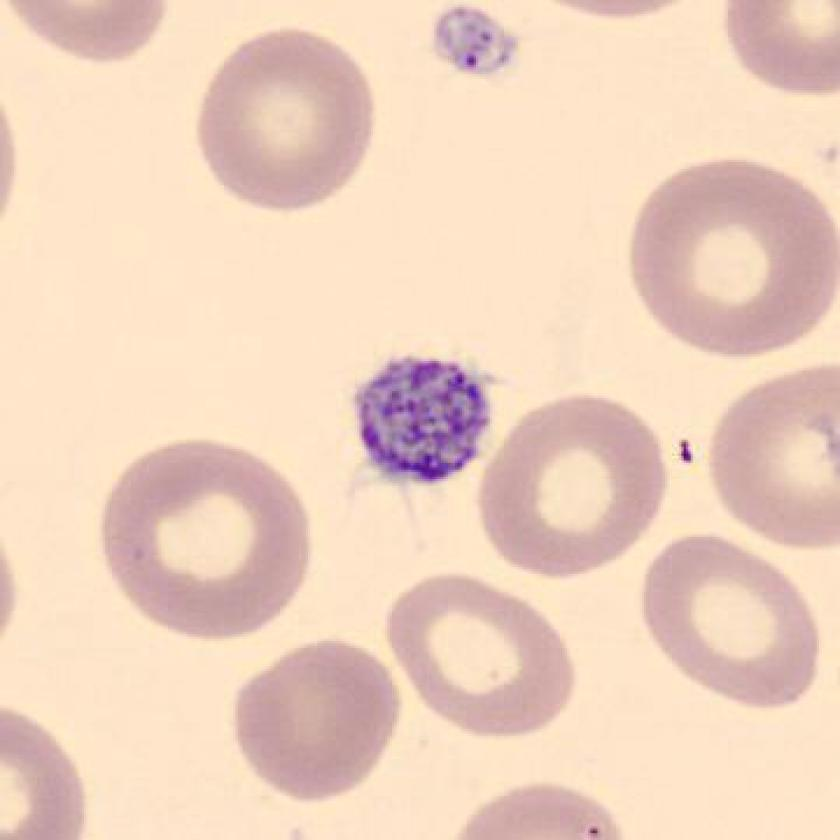platelets: (339, 346, 505, 498), (426, 1, 526, 80)
